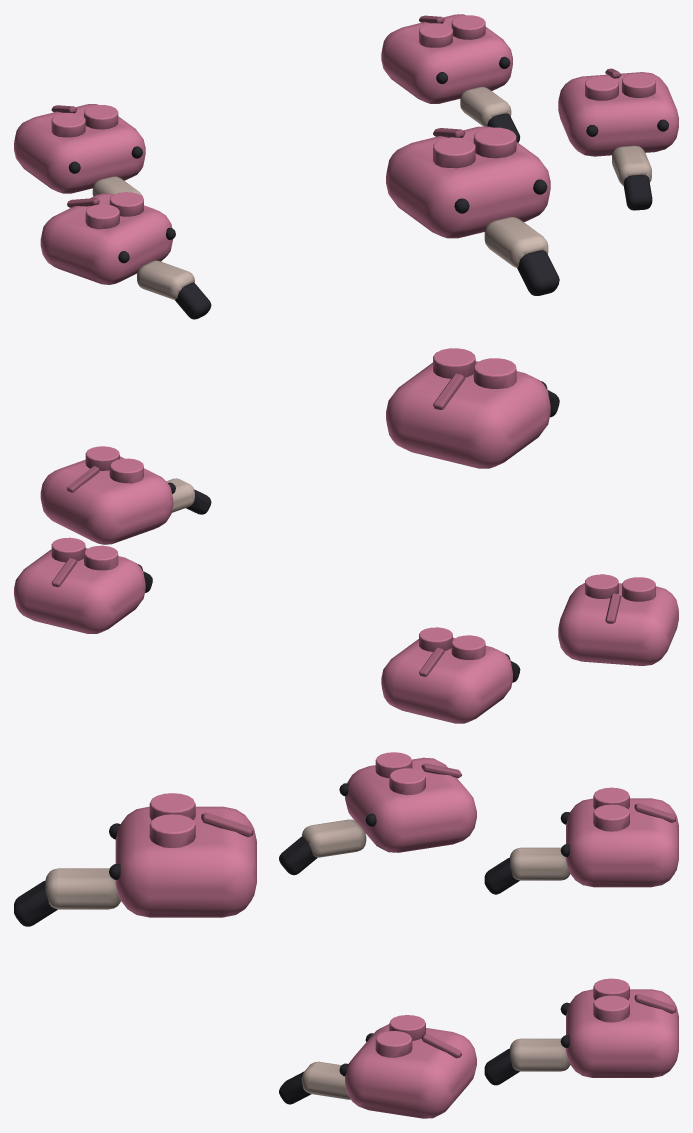
File: flamingo-flock-lod0.glb
The picture shows the model from 3 angles, top to bottom: view 1: azimuth 30°, elevation 25°; view 2: azimuth 150°, elevation 25°; view 3: azimuth 270°, elevation 25°; orthographic projection. The views are drawn at different scales.
Parts seen in each view (by area): view 1: cap_hat, att3_hat, att0_hat, att2_hat, att1_hat; view 2: cap_hat, att2_hat, att1_hat, att0_hat, att3_hat; view 3: cap_hat, att3_hat, att1_hat, att0_hat, att2_hat.
Boxes of the visible parts, x1,y1,x2,y2 form: cap_hat: (386, 126, 559, 295); att3_hat: (40, 192, 211, 319); att0_hat: (381, 14, 520, 142); att2_hat: (558, 68, 678, 210); att1_hat: (14, 104, 145, 197); cap_hat: (386, 348, 559, 468); att2_hat: (40, 446, 211, 544); att1_hat: (381, 627, 520, 723); att0_hat: (14, 537, 152, 633); att3_hat: (558, 574, 678, 665); cap_hat: (14, 793, 256, 926); att3_hat: (279, 752, 476, 875); att1_hat: (484, 787, 678, 894); att0_hat: (484, 978, 678, 1085); att2_hat: (279, 1015, 476, 1118).
Size of the model in its own units: 2.1 by 0.5274 by 1.83.
